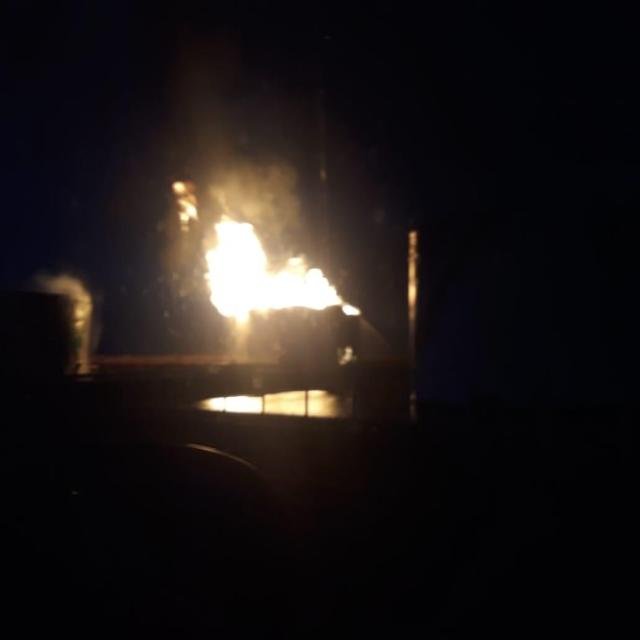Fire: (203, 216, 340, 330)
